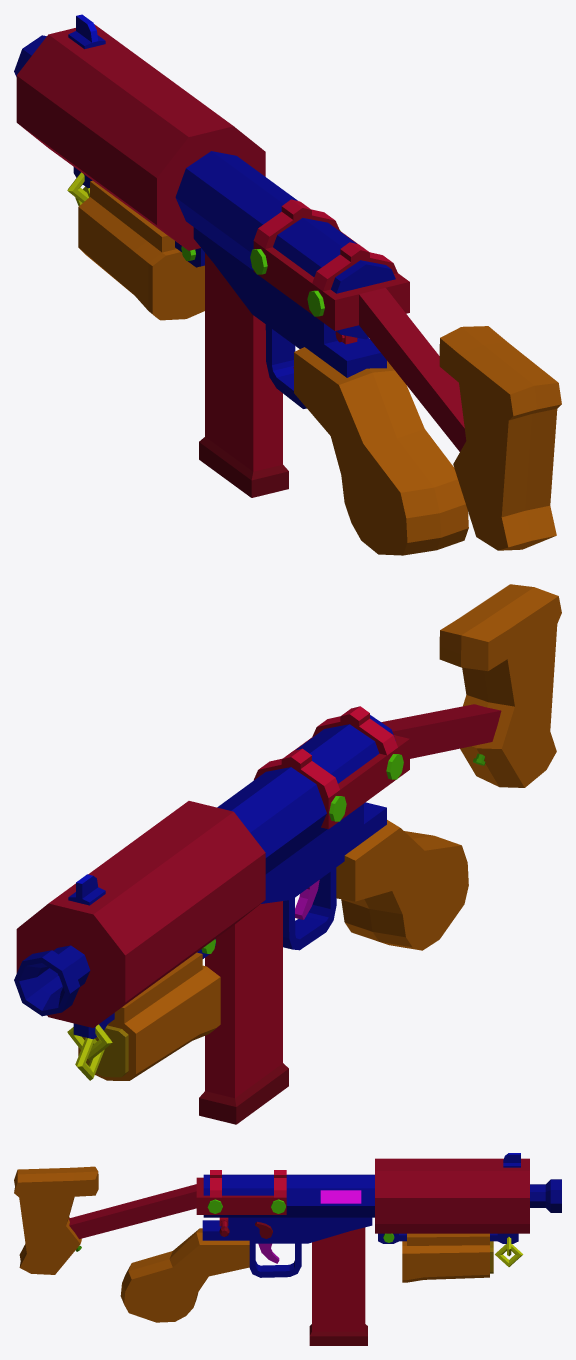
3 renders of one model, top to bottom at view 1: azimuth 30°, elevation 25°; view 2: azimuth 150°, elevation 25°; view 3: azimuth 270°, elevation 25°, orthographic. The views are drawn at different scales.
Parts seen in each view (by area): view 1: SMG, magazine; view 2: SMG, magazine; view 3: SMG, magazine, cocking handle.
Part boxes in pixels (bbox=[...]): SMG: bbox=[14, 14, 561, 555]; magazine: bbox=[199, 253, 288, 497]; SMG: bbox=[14, 584, 561, 1080]; magazine: bbox=[199, 901, 288, 1124]; SMG: bbox=[14, 1153, 561, 1322]; magazine: bbox=[309, 1227, 367, 1345]; cocking handle: bbox=[219, 1190, 361, 1236].
Size of the model in its own units: 36.83 by 110 by 291.
